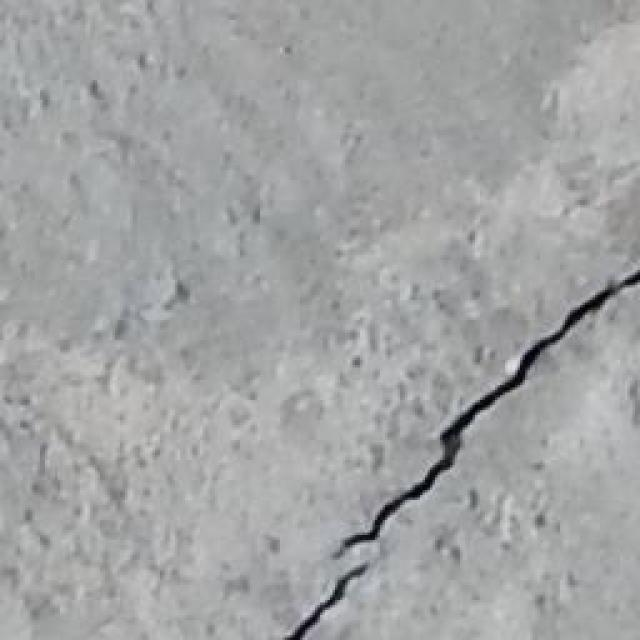concrete-crack: (333, 279, 636, 562), (288, 573, 367, 640)
